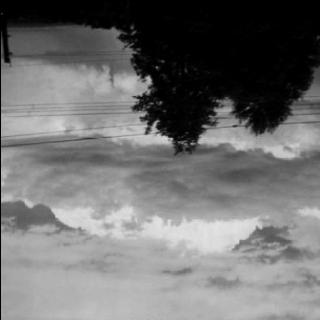Altocumulus: (0, 58, 320, 320)
